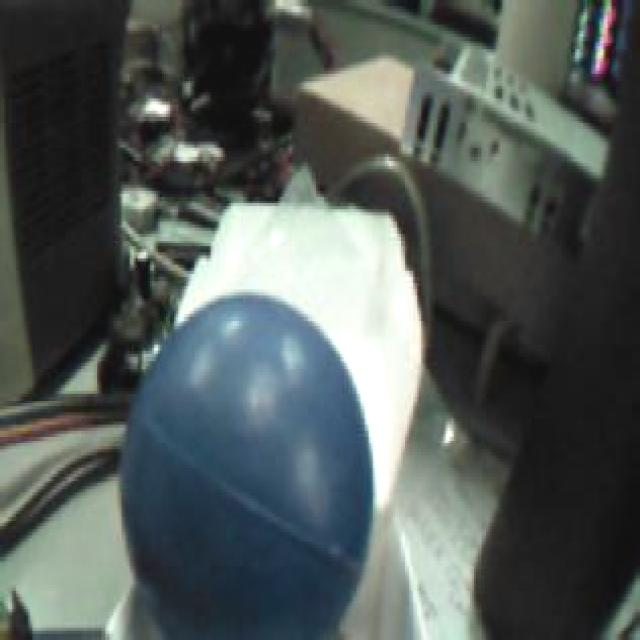BallPurple: (118, 291, 374, 640)
